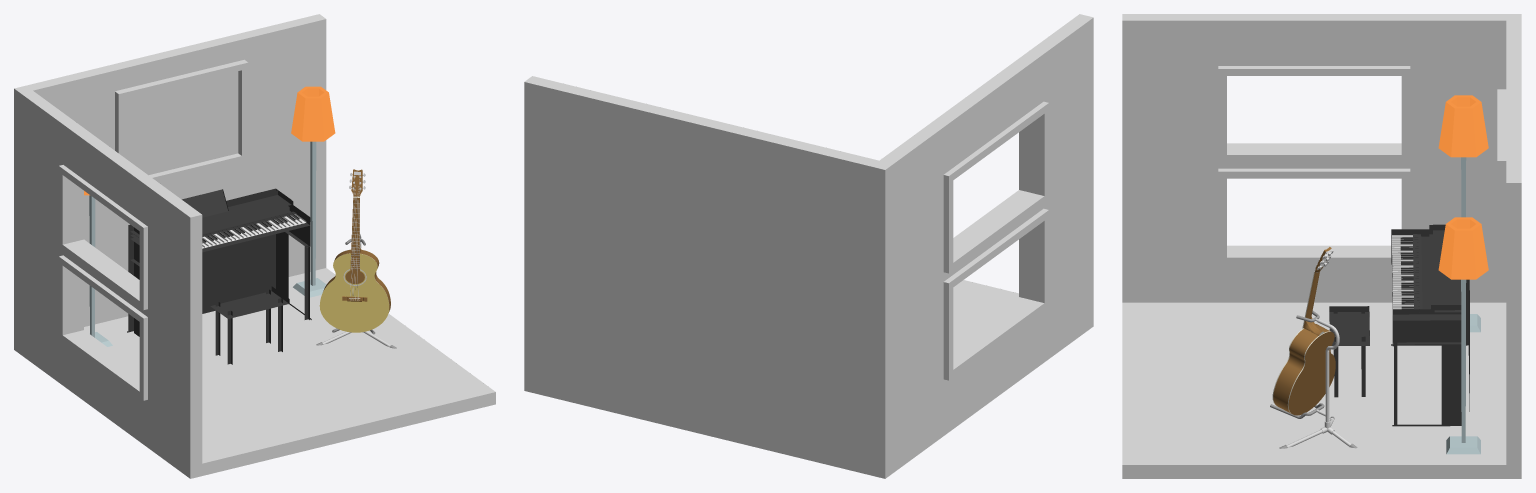
3 views of the same model, side by side, from view 1: azimuth 30°, elevation 25°; view 2: azimuth 150°, elevation 25°; view 3: azimuth 270°, elevation 25° (orthographic). The views are drawn at different scales.
Parts seen in each view (by area): view 1: Plane, Piano, Cube.002, Cube.001, Guitar, lampRoundFloor, lampRoundFloor_1; view 2: Plane, Cube.001; view 3: Plane, Cube.001, Piano, Guitar, lampRoundFloor, lampRoundFloor_1, Cube.002.
Part boxes in pixels (bbox=[...]): Plane: bbox=[14, 14, 495, 478]; Piano: bbox=[127, 188, 311, 364]; Cube.002: bbox=[115, 59, 248, 182]; Cube.001: bbox=[58, 165, 147, 400]; Guitar: bbox=[316, 169, 396, 348]; lampRoundFloor: bbox=[291, 86, 335, 297]; lampRoundFloor_1: bbox=[84, 191, 112, 346]; Plane: bbox=[524, 14, 1093, 478]; Cube.001: bbox=[943, 101, 1048, 380]; Plane: bbox=[1122, 14, 1521, 478]; Cube.001: bbox=[1218, 66, 1410, 264]; Piano: bbox=[1329, 224, 1469, 426]; Guitar: bbox=[1270, 247, 1357, 448]; lampRoundFloor: bbox=[1438, 217, 1488, 454]; lampRoundFloor_1: bbox=[1438, 95, 1488, 332]; Cube.002: bbox=[1497, 89, 1506, 271].
Bounding box in the file's own units: 4.22 × 3.4 × 4.16.
